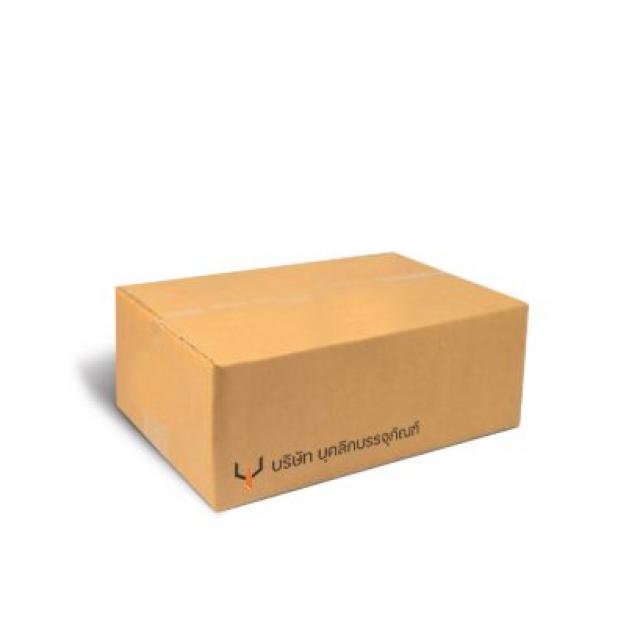box: (106, 250, 541, 502)
